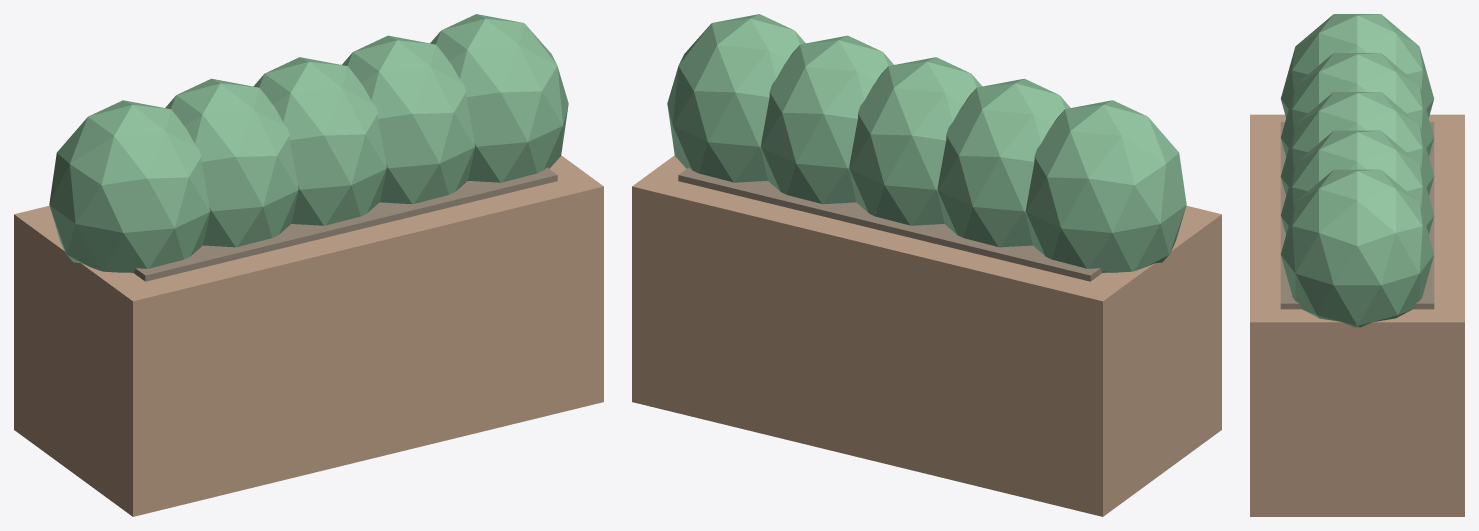
File: planter_box.glb
3 renders of one model, left to right at view 1: azimuth 30°, elevation 25°; view 2: azimuth 150°, elevation 25°; view 3: azimuth 270°, elevation 25°, orthographic. The views are drawn at different scales.
Visible parts, largest first — view 1: planter_box_000, planter_box_002, planter_box_006, planter_box_005, planter_box_003, planter_box_004, planter_box_001; view 2: planter_box_000, planter_box_002, planter_box_006, planter_box_005, planter_box_003, planter_box_004, planter_box_001; view 3: planter_box_000, planter_box_006, planter_box_005, planter_box_004, planter_box_002, planter_box_003, planter_box_001.
Boxes of the visible parts, left/top/right/bottom form: planter_box_000: left=14, top=155, right=603, bottom=516; planter_box_002: left=49, top=100, right=209, bottom=272; planter_box_006: left=430, top=14, right=568, bottom=182; planter_box_005: left=342, top=35, right=474, bottom=204; planter_box_003: left=165, top=78, right=298, bottom=247; planter_box_004: left=253, top=57, right=386, bottom=225; planter_box_001: left=133, top=167, right=557, bottom=281; planter_box_000: left=632, top=155, right=1221, bottom=516; planter_box_002: left=1026, top=100, right=1186, bottom=272; planter_box_006: left=667, top=14, right=805, bottom=182; planter_box_005: left=761, top=35, right=893, bottom=204; planter_box_003: left=937, top=78, right=1070, bottom=247; planter_box_004: left=849, top=57, right=982, bottom=225; planter_box_001: left=678, top=167, right=1102, bottom=281; planter_box_000: left=1250, top=114, right=1464, bottom=516; planter_box_006: left=1280, top=169, right=1434, bottom=327; planter_box_005: left=1280, top=130, right=1434, bottom=234; planter_box_004: left=1280, top=92, right=1434, bottom=195; planter_box_002: left=1280, top=14, right=1434, bottom=117; planter_box_003: left=1280, top=53, right=1434, bottom=156; planter_box_001: left=1280, top=122, right=1434, bottom=309.
Size of the model in its own units: 1.68 by 1.15 by 0.7.
